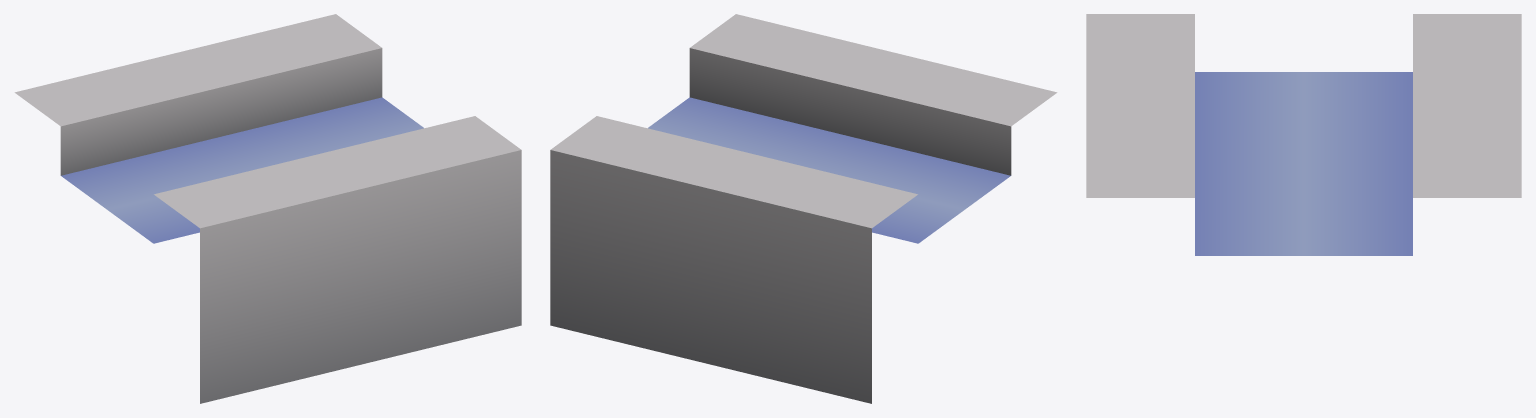
Rendered from river_02.glb.
3 views of the same model, side by side, from view 1: azimuth 30°, elevation 25°; view 2: azimuth 150°, elevation 25°; view 3: azimuth 270°, elevation 25° (orthographic). The views are drawn at different scales.
Parts seen in each view (by area): view 1: river_02; view 2: river_02; view 3: river_02.
Part boxes in pixels (x1,y1,x2,y2): river_02: (14,14,521,403); river_02: (550,14,1057,403); river_02: (1086,14,1521,255).
Bounding box in the file's own units: 2 × 1.04 × 2.
